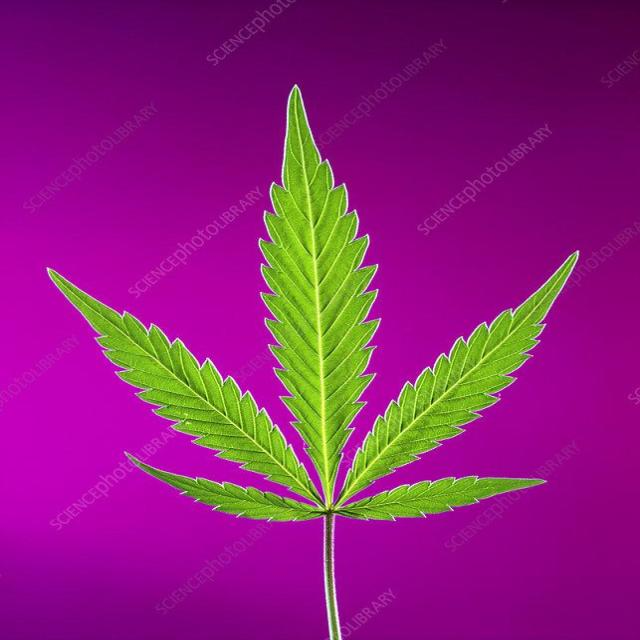cannabis: (45, 87, 578, 639)
